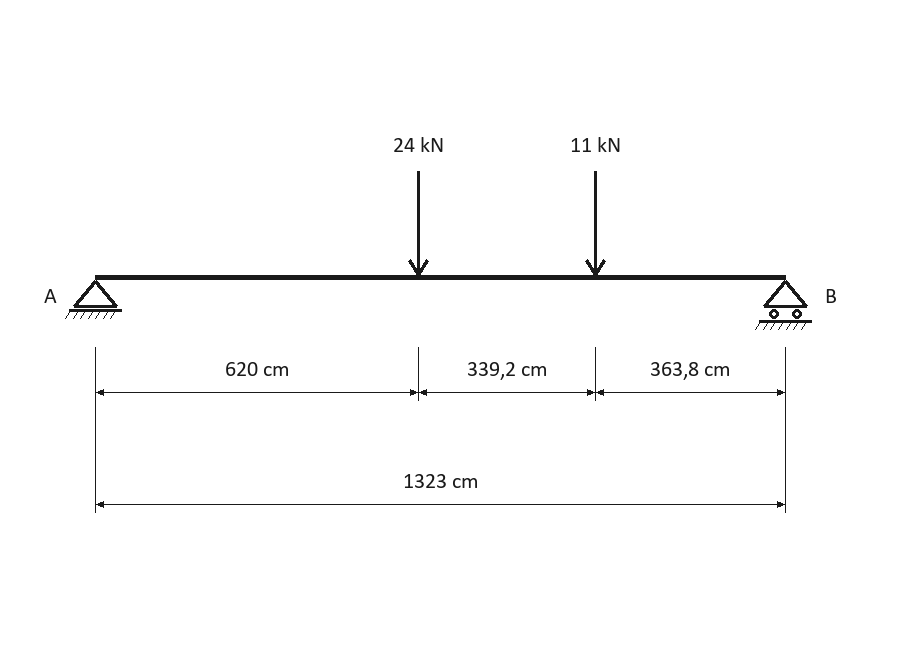pin_support: (65, 280, 122, 319)
point_load: (408, 171, 429, 276), (585, 171, 606, 276)
roller_support: (755, 280, 812, 330)
